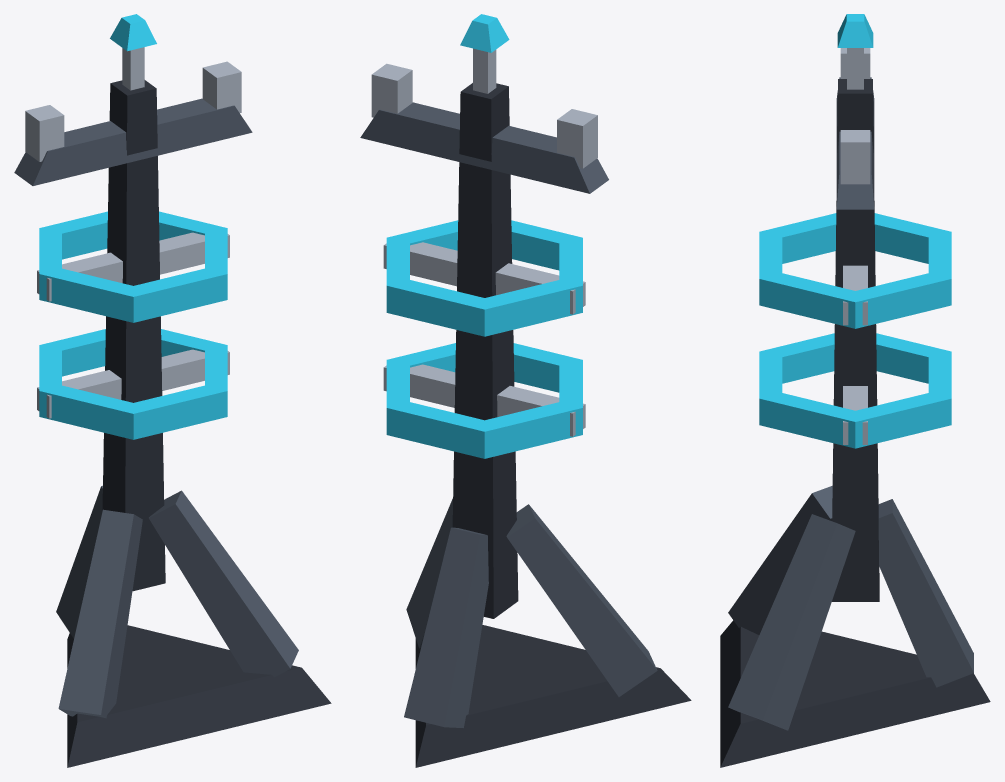
Rendered from SM_Pylon_LOD0.fbx.
The picture shows the model from 3 angles, left to right: view 1: azimuth 30°, elevation 25°; view 2: azimuth 150°, elevation 25°; view 3: azimuth 270°, elevation 25°; orthographic projection. The views are drawn at different scales.
Parts seen in each view (by area): view 1: SM_Pylon_LOD0; view 2: SM_Pylon_LOD0; view 3: SM_Pylon_LOD0.
Boxes of the visible parts, left/top/right/bottom form: SM_Pylon_LOD0: left=14, top=14, right=331, bottom=767; SM_Pylon_LOD0: left=360, top=14, right=691, bottom=767; SM_Pylon_LOD0: left=720, top=14, right=990, bottom=767.
Size of the model in its own units: 1.49 by 3.6 by 1.29.
